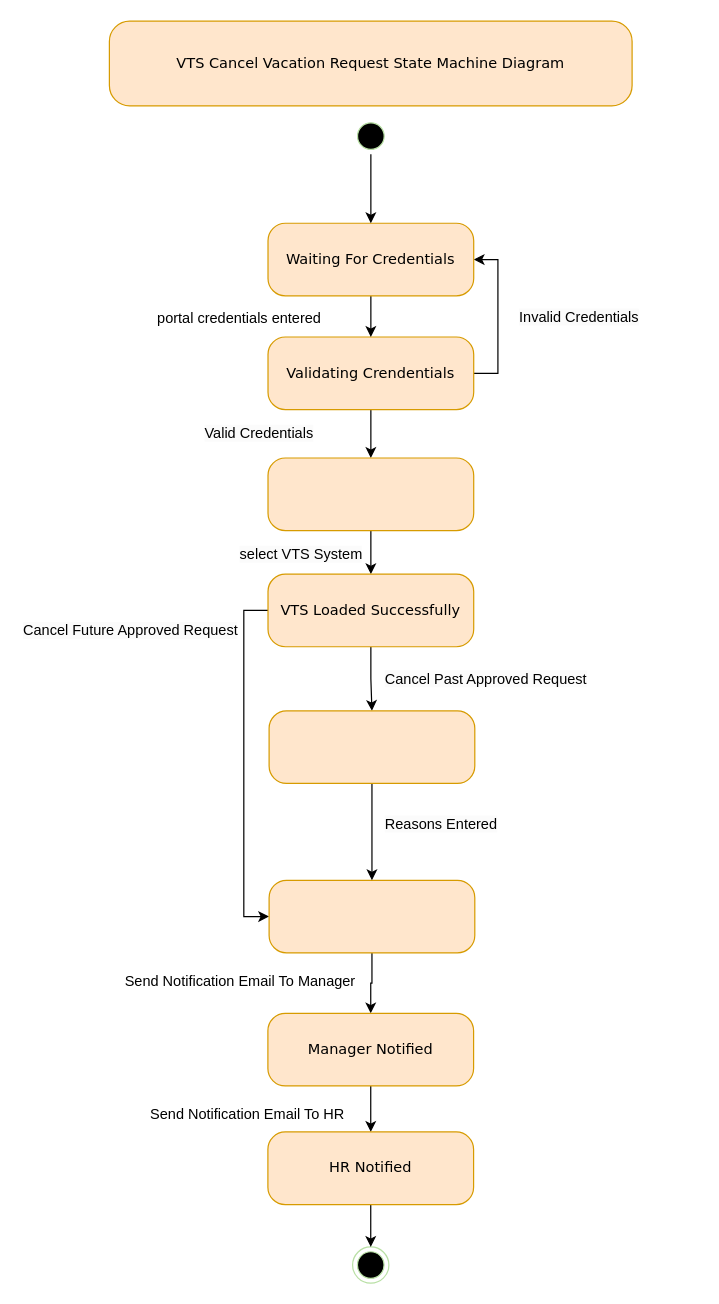
Some shapes in this 719 by 1304 pixel diagram are drawn without their labels. Here are the shapes that lost their labels. From the top down, the centre of each, then its label:
(x=370, y=494): Portal Loaded Successfully
(x=371, y=746): Waiting For Employee's Reasons
(x=371, y=916): Request Is Cancelled
